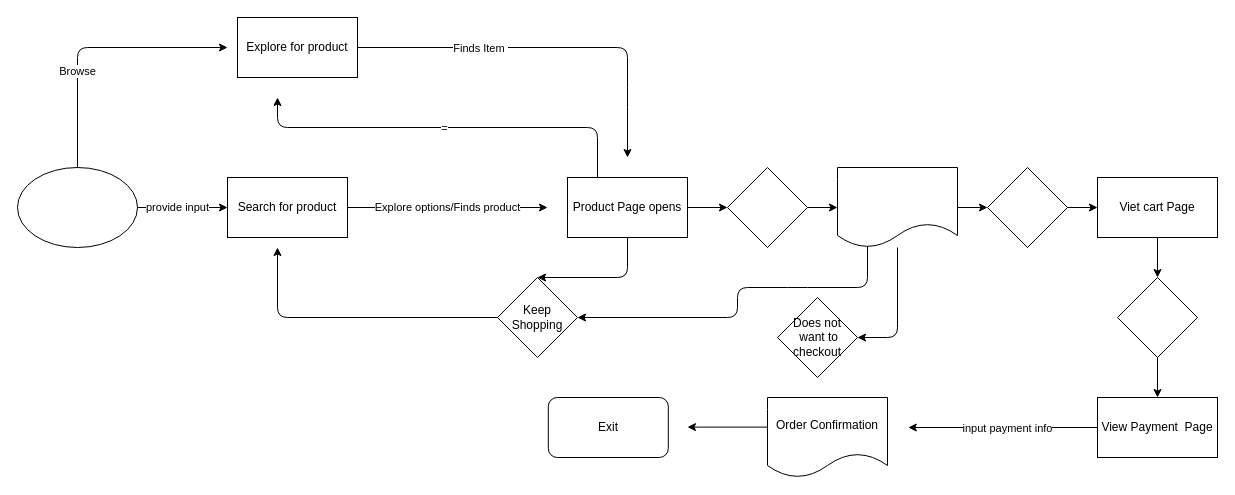
The diagram is 1235 pixels wide and 495 high, and some of its shapes have lost their labels. The shapes that lost their labels are listed below. From the top down, each one's box as (x1, y1, x2, y2) in pixels, then its label:
(16, 166, 138, 248): User Enter
(726, 166, 808, 248): Add cart
(836, 166, 958, 248): Confirmation of cart
(986, 166, 1068, 248): Checkout
(1116, 276, 1198, 358): Buy item
